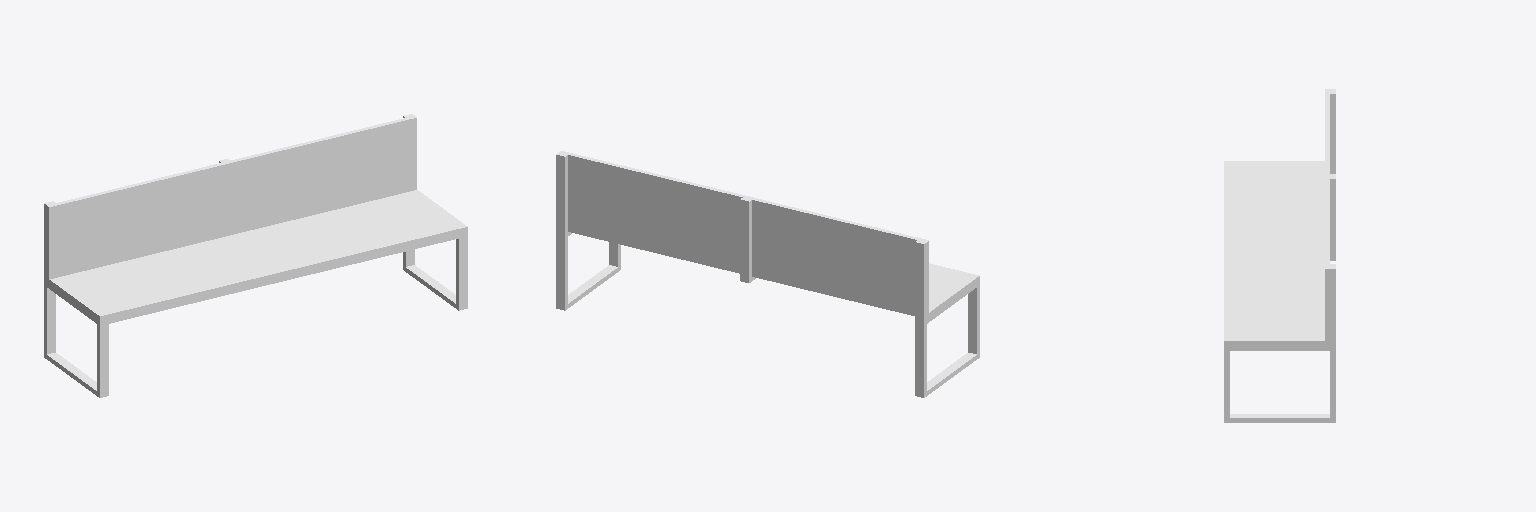
Rendered from bench1-0-lod2.obj.
3 renders of one model, left to right at view 1: azimuth 30°, elevation 25°; view 2: azimuth 150°, elevation 25°; view 3: azimuth 270°, elevation 25°, orthographic.
Visible parts, largest first — view 1: lod2; view 2: lod2; view 3: lod2.
Boxes of the visible parts, <box> form: lod2: <box>44,114,467,397</box>; lod2: <box>556,151,979,397</box>; lod2: <box>1224,89,1335,422</box>.
Bounding box in the file's own units: 16 × 6.4 × 4.2.